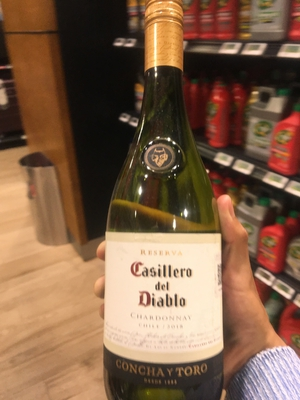casillero del diablo chardonnay: (102, 6, 222, 389)
